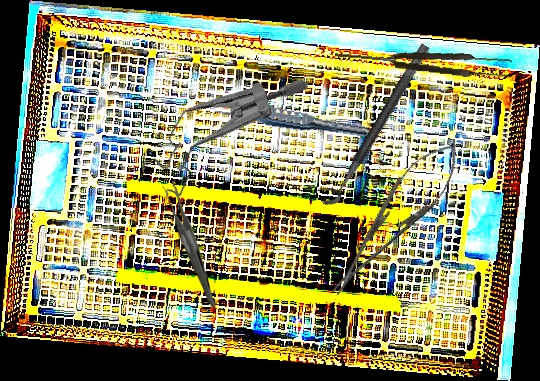Dressing Forceps: (162, 179, 216, 310)
Fixation Ring: (311, 34, 431, 211)
Needle Holder: (316, 126, 475, 308)
Speculum: (139, 34, 311, 231)
Tissue Forceps: (209, 97, 371, 142), (334, 42, 513, 81)
